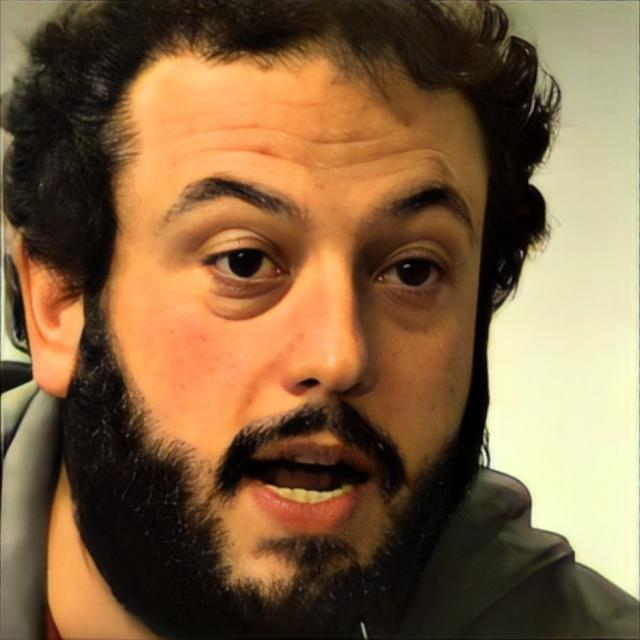surprise: (97, 8, 492, 640)
